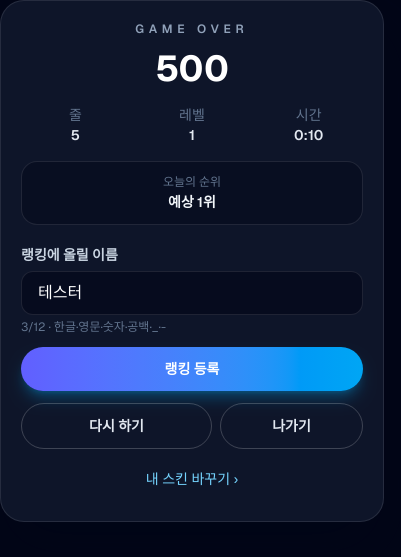
Test: GameOverPanel 예상 순위 요청 › 오늘의 테트리스: 그날 순위 하나·다시보기 없음·데일리 랭킹 링크, 첫 판이면 순위를 공유 기록에 붙인다 (games-growth B1)
Expected: the text "오늘의 순위" is shown, [163,174,221,190]
Click the button "랭킹 등록": click(192, 369) [21,347,363,391]
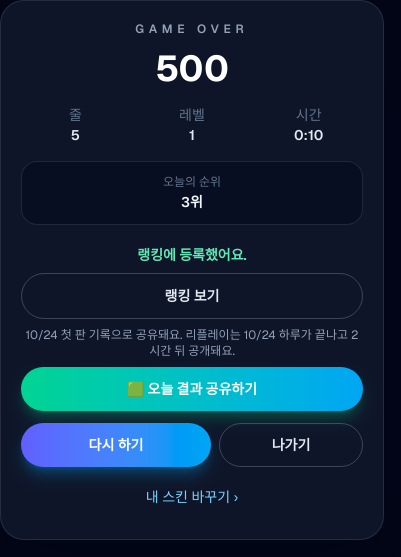
Now the button with test id "daily-share" is shown, box [21,367,363,411]
